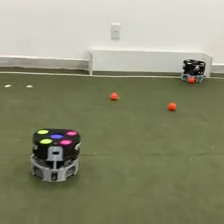ball: (167, 100, 177, 111), (110, 90, 118, 100), (188, 75, 196, 84)
goal: (87, 47, 214, 78)
robot: (28, 126, 83, 184), (181, 58, 208, 84)
